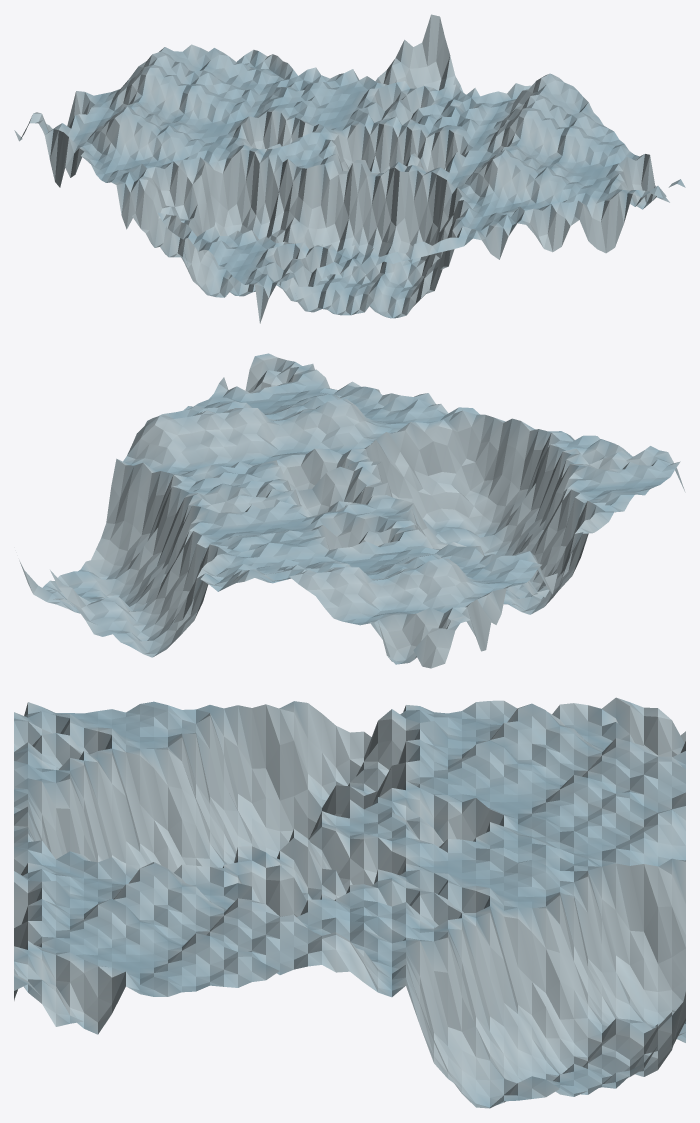
Rendered from polar_lod1.glb.
The picture shows the model from 3 angles, top to bottom: view 1: azimuth 30°, elevation 25°; view 2: azimuth 150°, elevation 25°; view 3: azimuth 270°, elevation 25°; orthographic projection. The views are drawn at different scales.
Parts seen in each view (by area): view 1: world; view 2: world; view 3: world.
Part boxes in pixels (box(x1,y1,x2,y2)): world: box(14, 14, 685, 323); world: box(19, 353, 685, 668); world: box(14, 697, 685, 1108).
Size of the model in its own units: 2 by 0.581 by 2.
